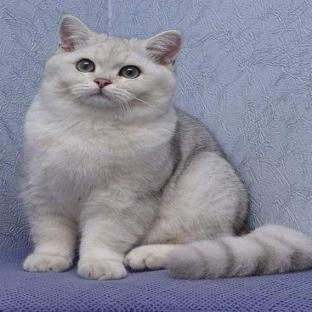Animal: (21, 15, 310, 280)
